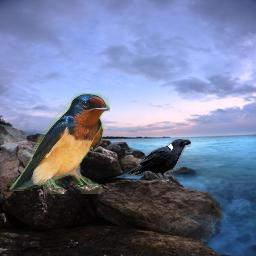Crow: (127, 139, 191, 185)
Swallow: (9, 93, 110, 194)
